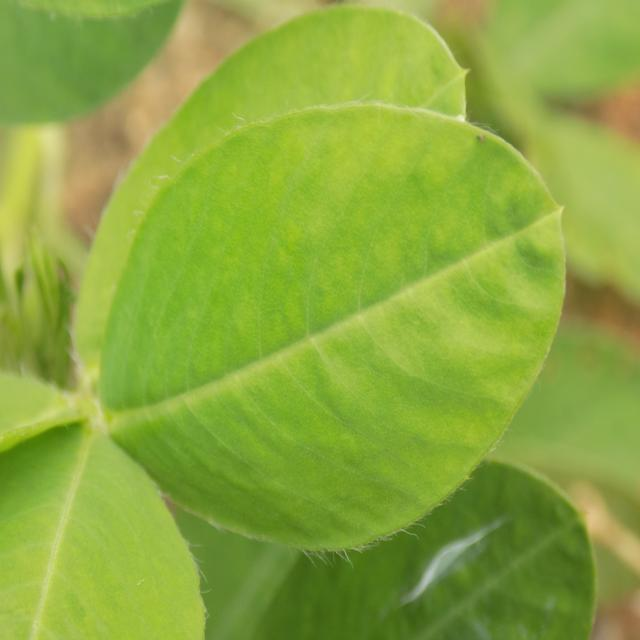Ground nut_healthy: (94, 108, 566, 551)
